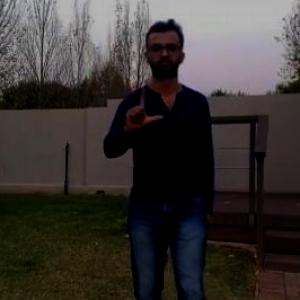land_hand: (117, 80, 165, 137)
